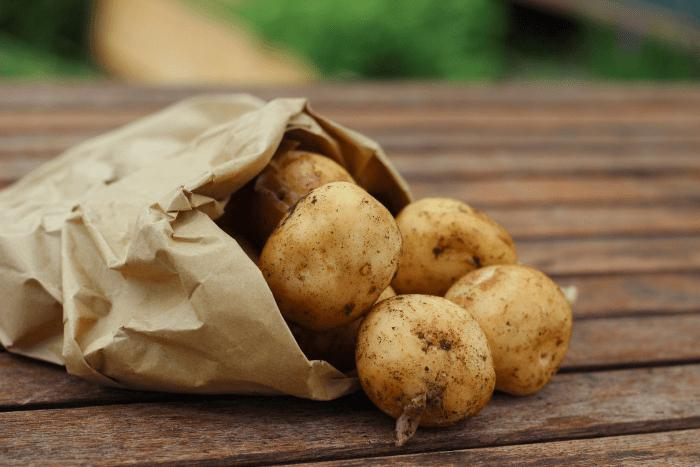potato: (392, 219, 544, 313), (305, 134, 439, 233)
